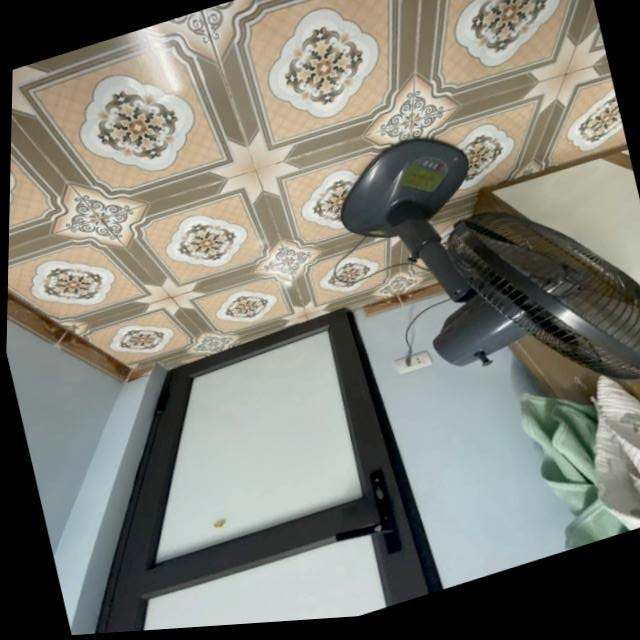outlet: (393, 350, 432, 377)
